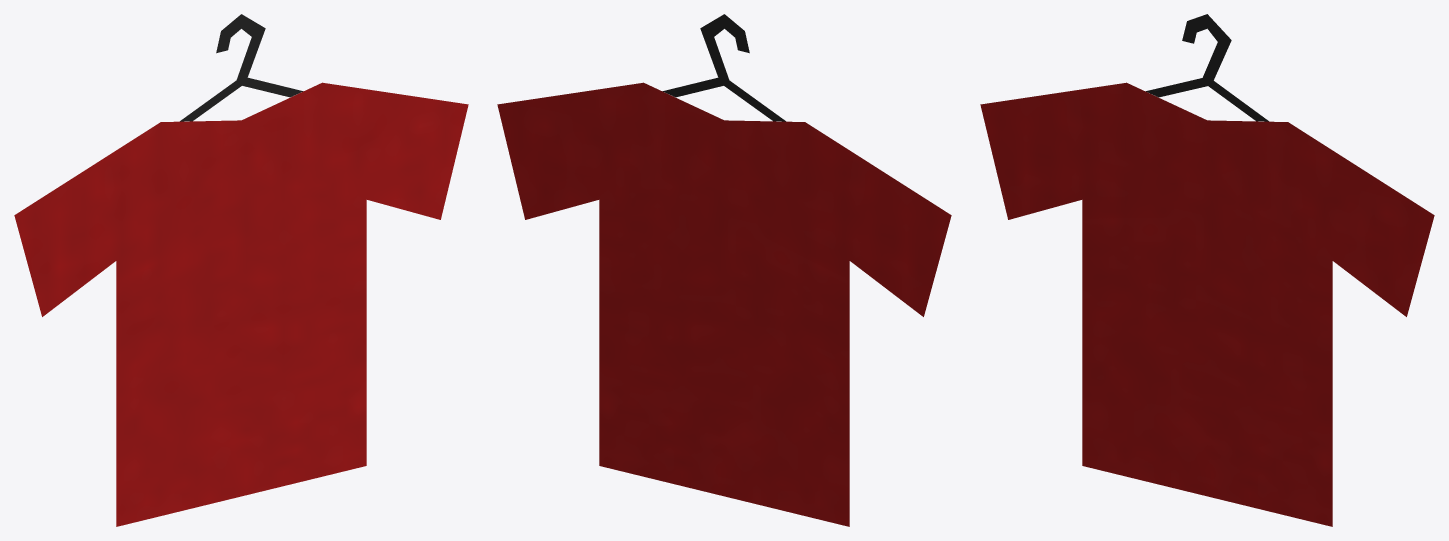
File: Shirt_1.fbx
3 views of the same model, side by side, from view 1: azimuth 30°, elevation 25°; view 2: azimuth 150°, elevation 25°; view 3: azimuth 330°, elevation 25° (orthographic).
Parts seen in each view (by area): view 1: Maya_File_Assets:TexturedAssetsCurrent:Hanifen_Quinton_Week7; view 2: Maya_File_Assets:TexturedAssetsCurrent:Hanifen_Quinton_Week7; view 3: Maya_File_Assets:TexturedAssetsCurrent:Hanifen_Quinton_Week7.
Boxes of the visible parts, bbox=[...] form: Maya_File_Assets:TexturedAssetsCurrent:Hanifen_Quinton_Week7: bbox=[14, 14, 468, 526]; Maya_File_Assets:TexturedAssetsCurrent:Hanifen_Quinton_Week7: bbox=[497, 14, 951, 526]; Maya_File_Assets:TexturedAssetsCurrent:Hanifen_Quinton_Week7: bbox=[980, 14, 1434, 526].
Bounding box in the file's own units: 0.7256 × 0.7363 × 7.35e-15.
